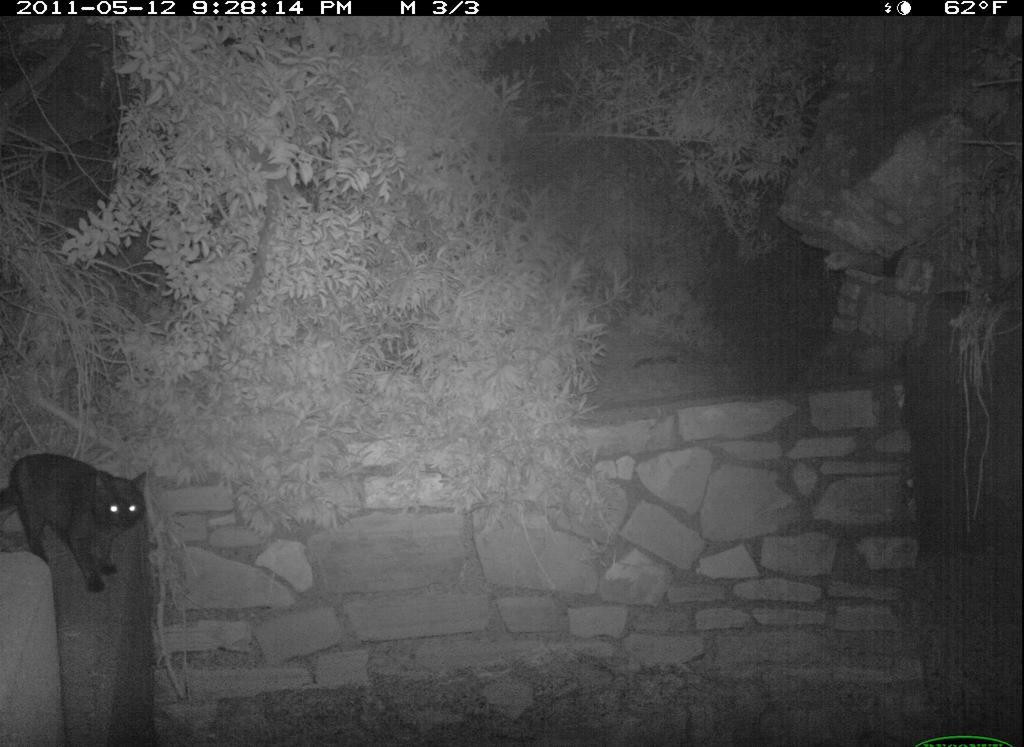cat: (3, 445, 154, 597)
